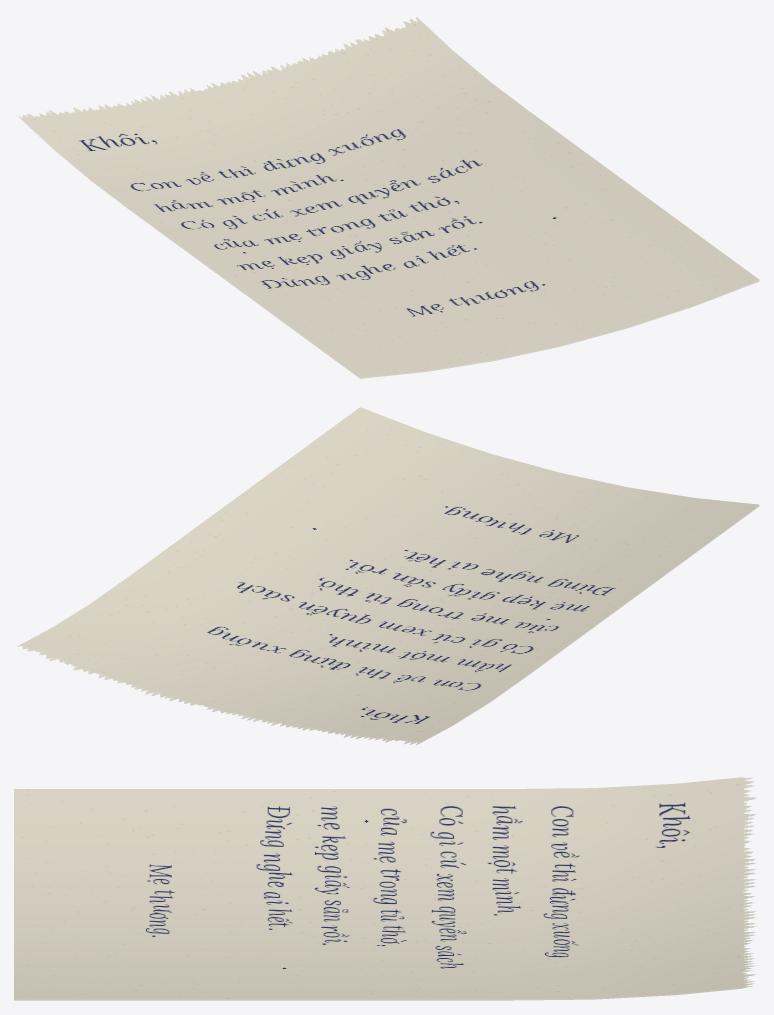
File: LoiNhanMe_Giay.glb
3 renders of one model, top to bottom at view 1: azimuth 30°, elevation 25°; view 2: azimuth 150°, elevation 25°; view 3: azimuth 270°, elevation 25°, orthographic. The views are drawn at different scales.
Visible parts, largest first — view 1: LoiNhanMe_Giay; view 2: LoiNhanMe_Giay; view 3: LoiNhanMe_Giay.
Part boxes in pixels (x1,y1,x2,y2): LoiNhanMe_Giay: (17,17,759,378); LoiNhanMe_Giay: (17,407,759,745); LoiNhanMe_Giay: (14,777,755,1000).
Size of the model in its own units: 0.1 by 0.0073 by 0.15.
2 materials, 2 textured.
